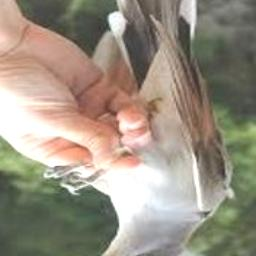Cuckoo: (49, 0, 233, 256)
